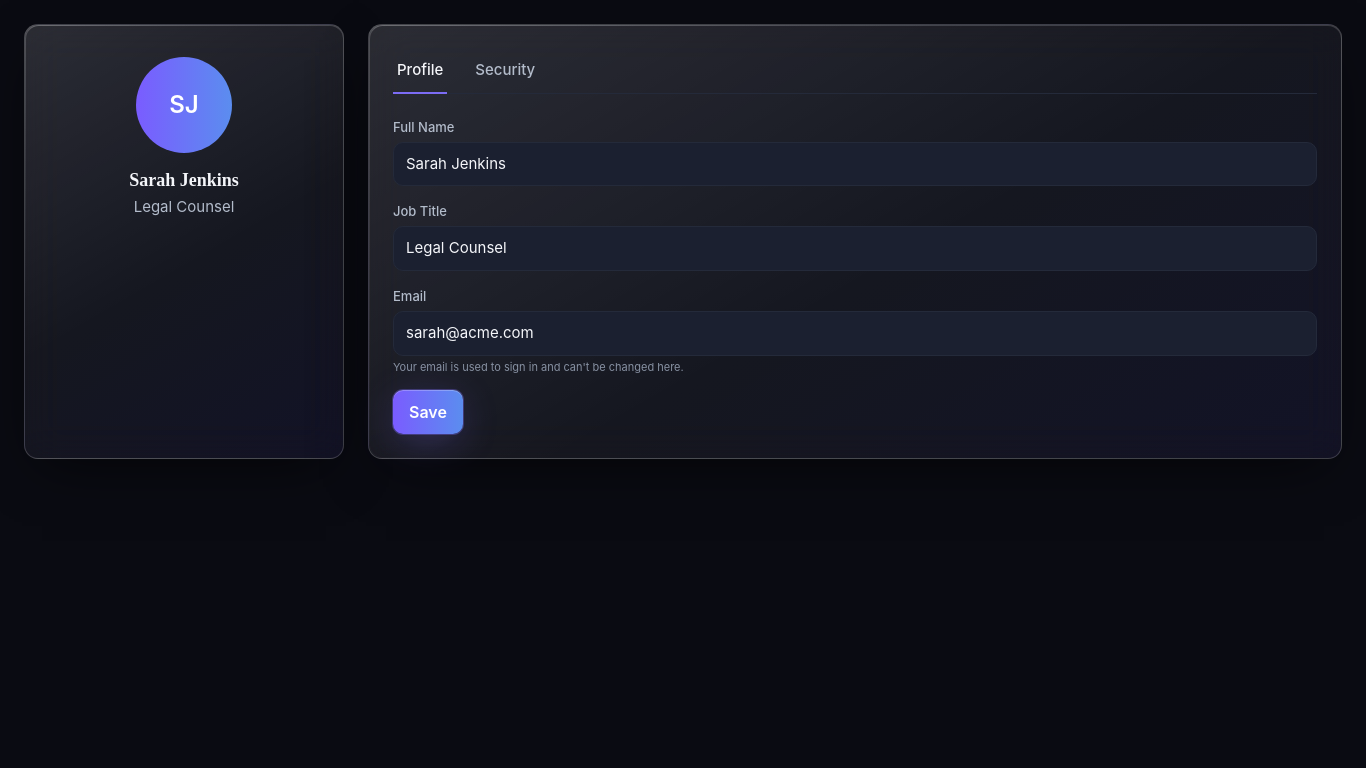
Test: AccountSettingsView (spec 023 AC-9..12) › change_password_wrong_current_shows_backend_error
Click the tab "Security" at point(505, 71), box [471, 49, 539, 94]
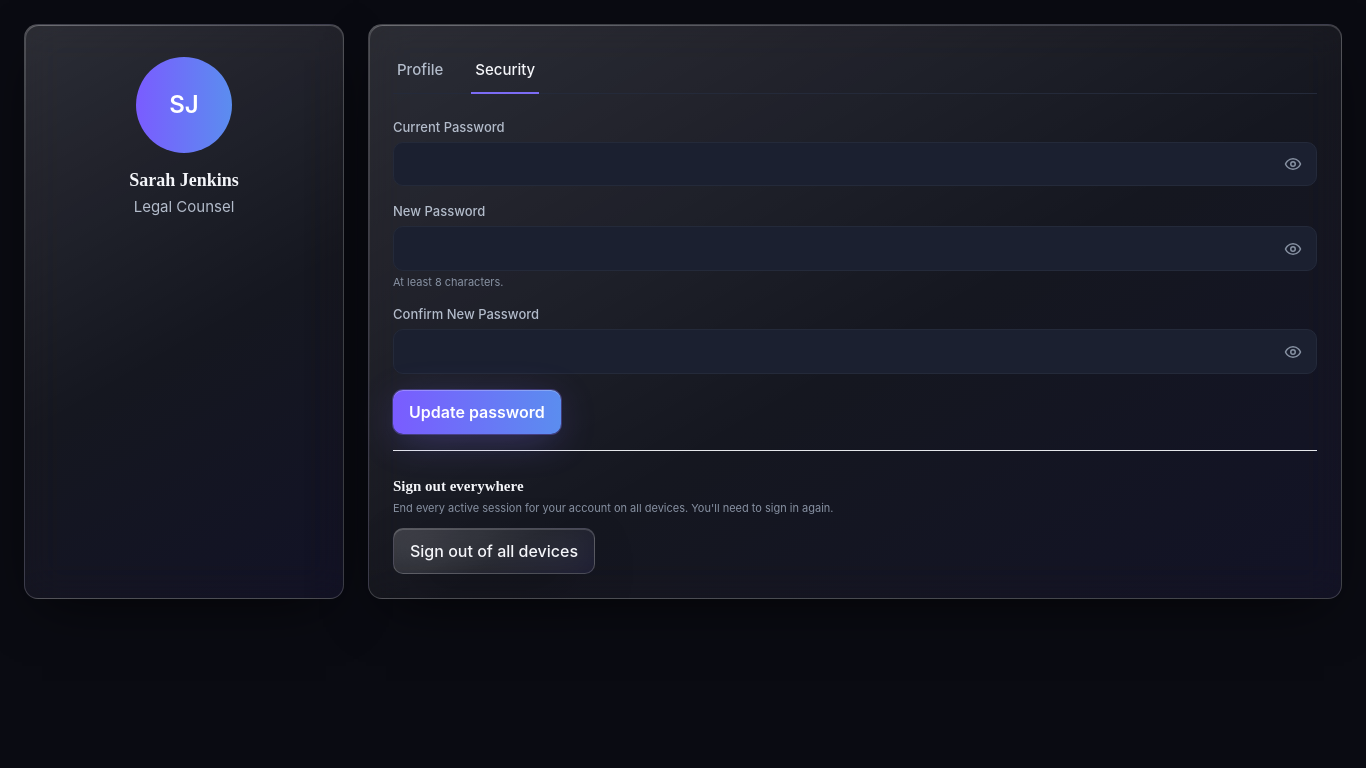
Type "wrong" into the password field labelled "Current Password" at point(855, 164), box [393, 142, 1317, 186]
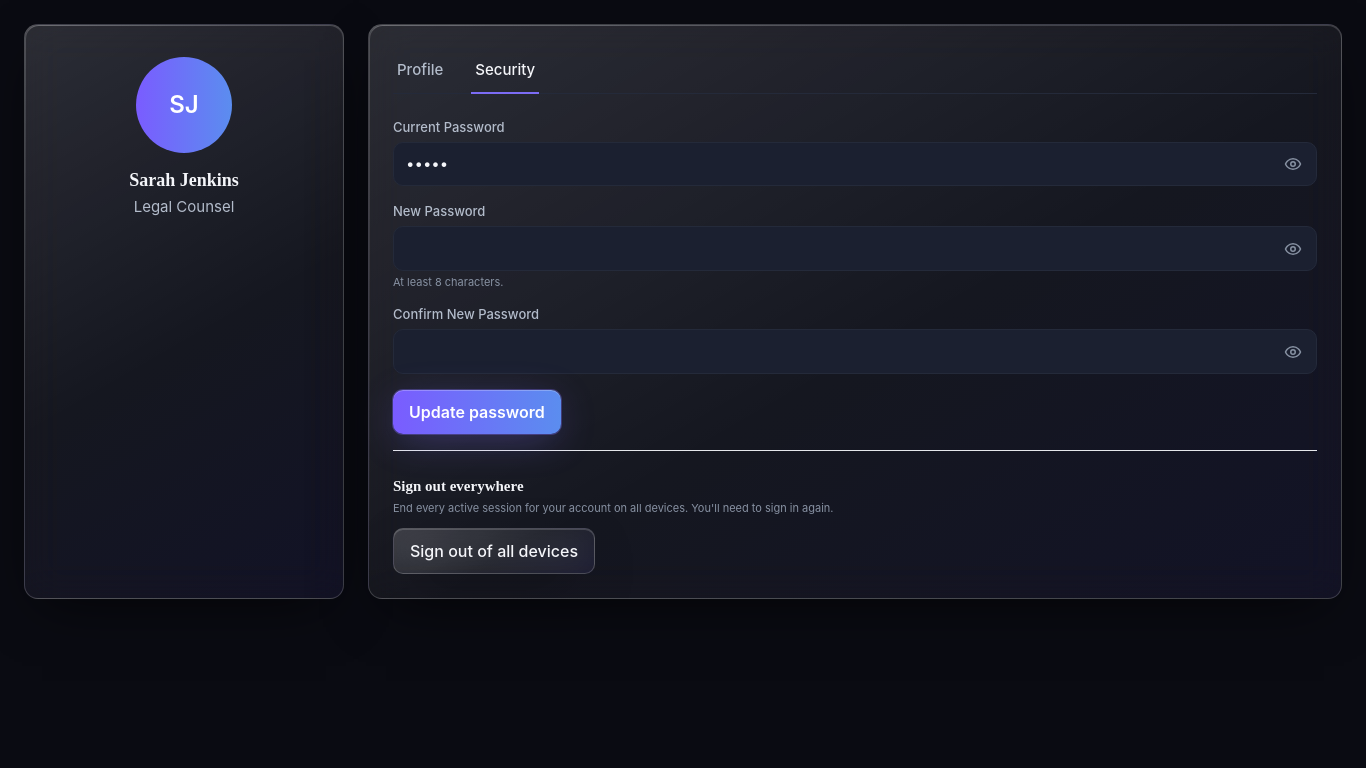
Type "NewPassw1!" into the password field labelled "New Password" at point(855, 249), box [393, 226, 1317, 271]
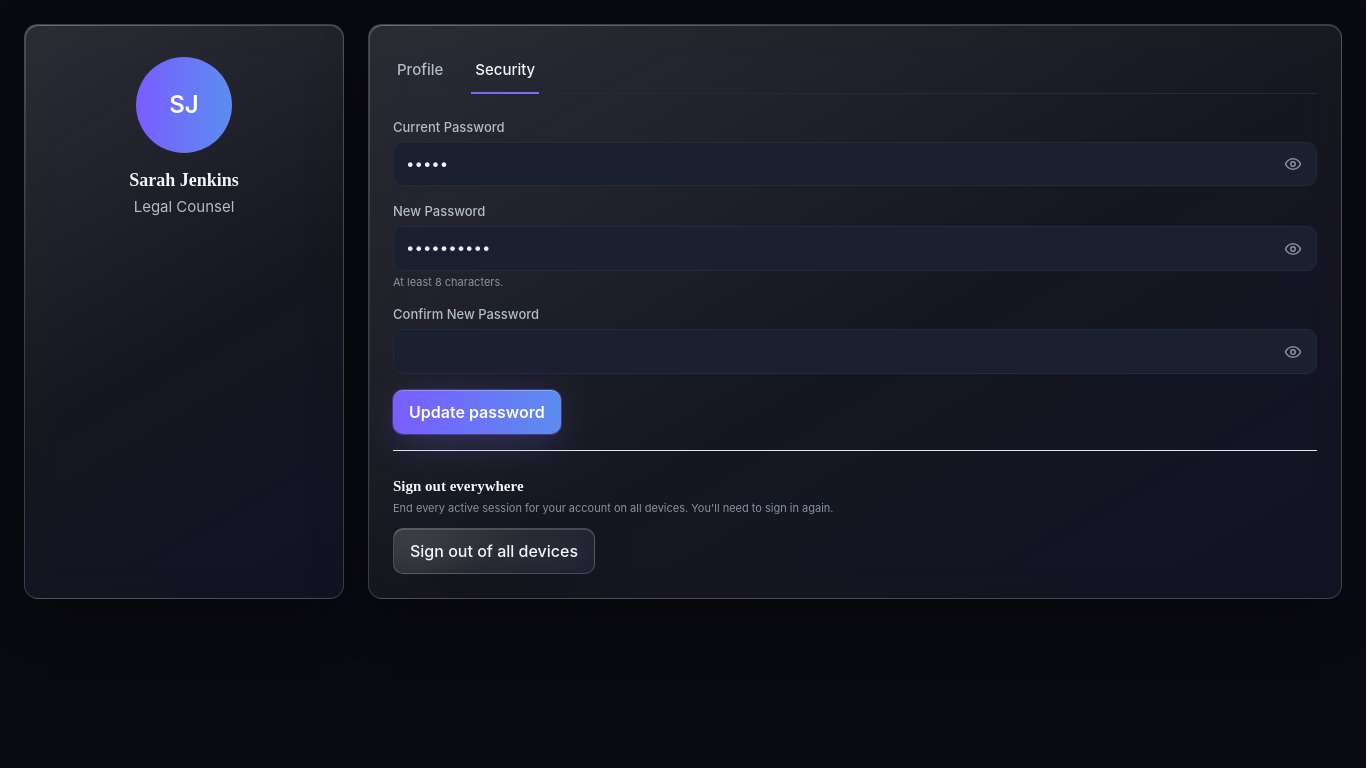
Type "NewPassw1!" into the password field labelled "Confirm New Password" at point(855, 352), box [393, 329, 1317, 374]
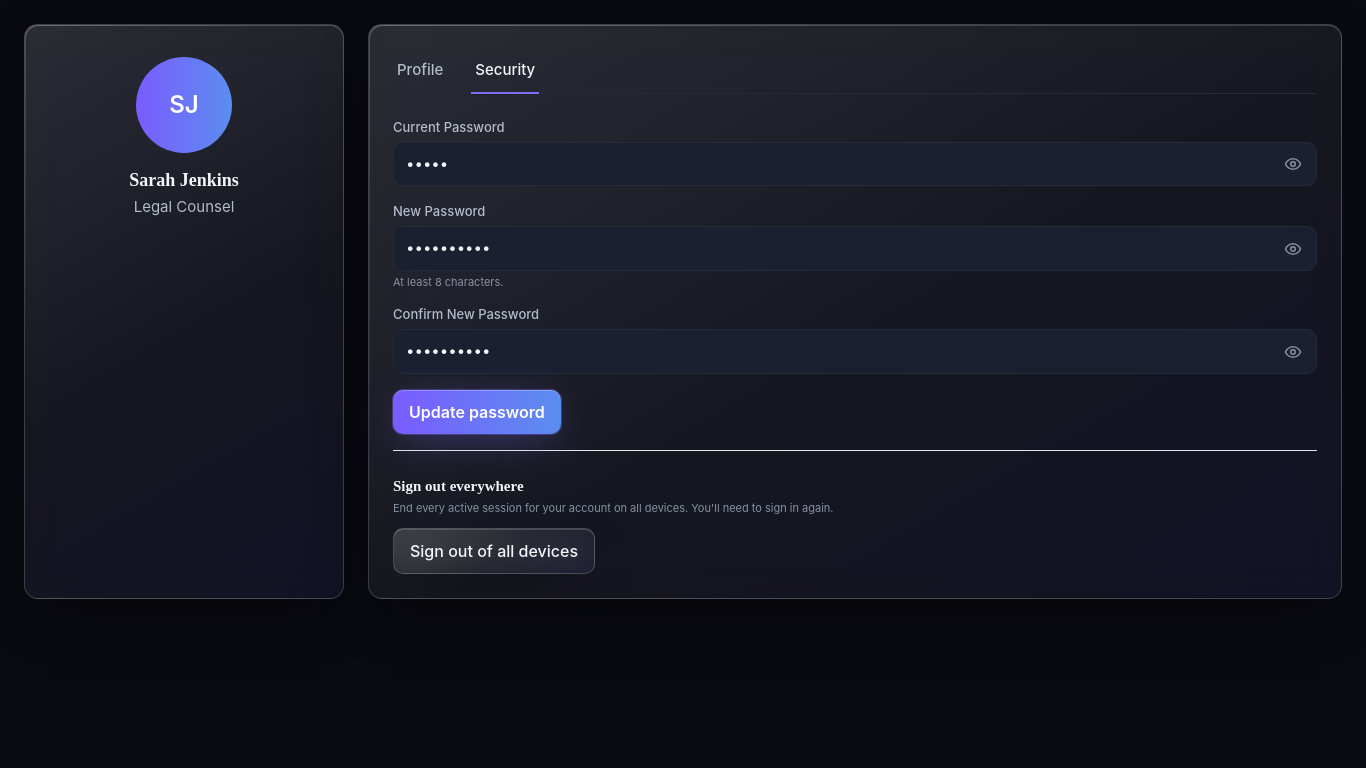
Click the button "Update password" at point(477, 412), box [393, 390, 561, 434]
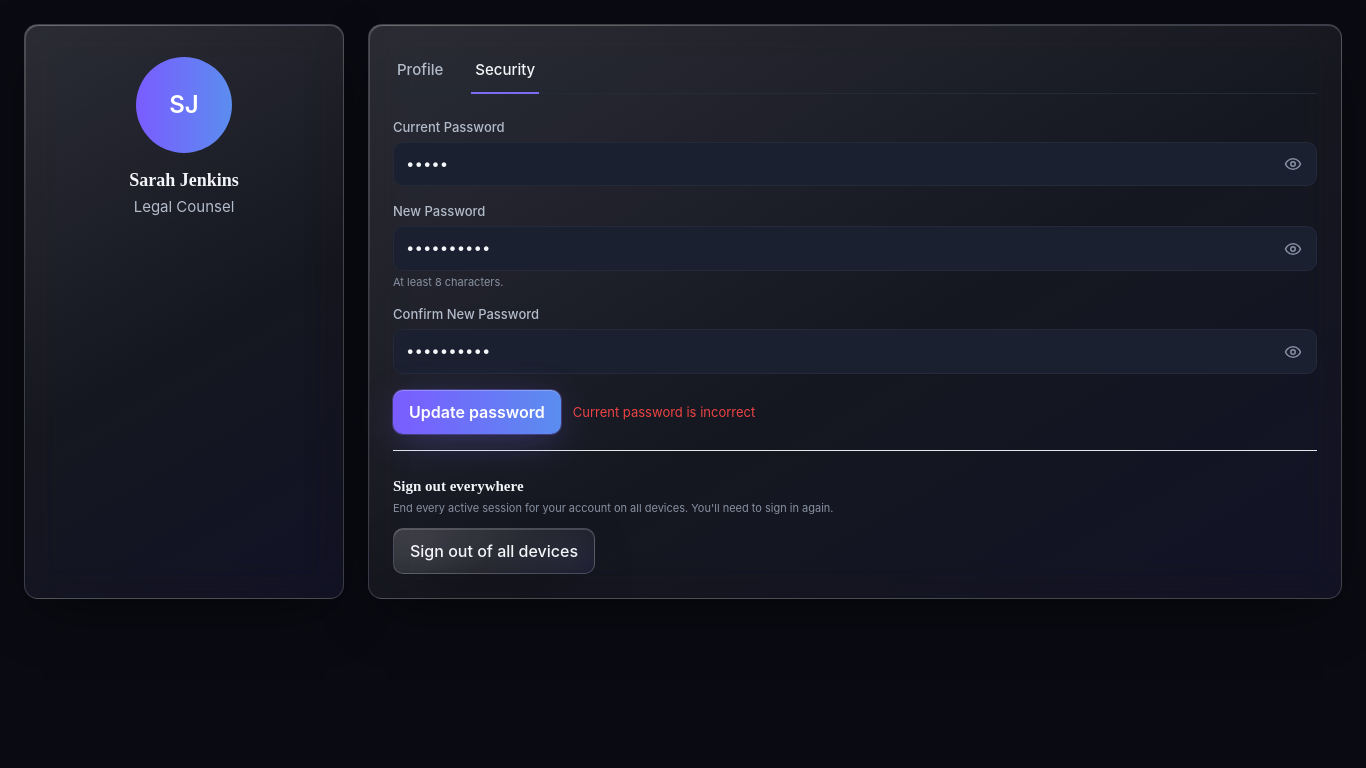
Expected: the text "Current password is incorrect" is shown, [573, 403, 755, 421]
